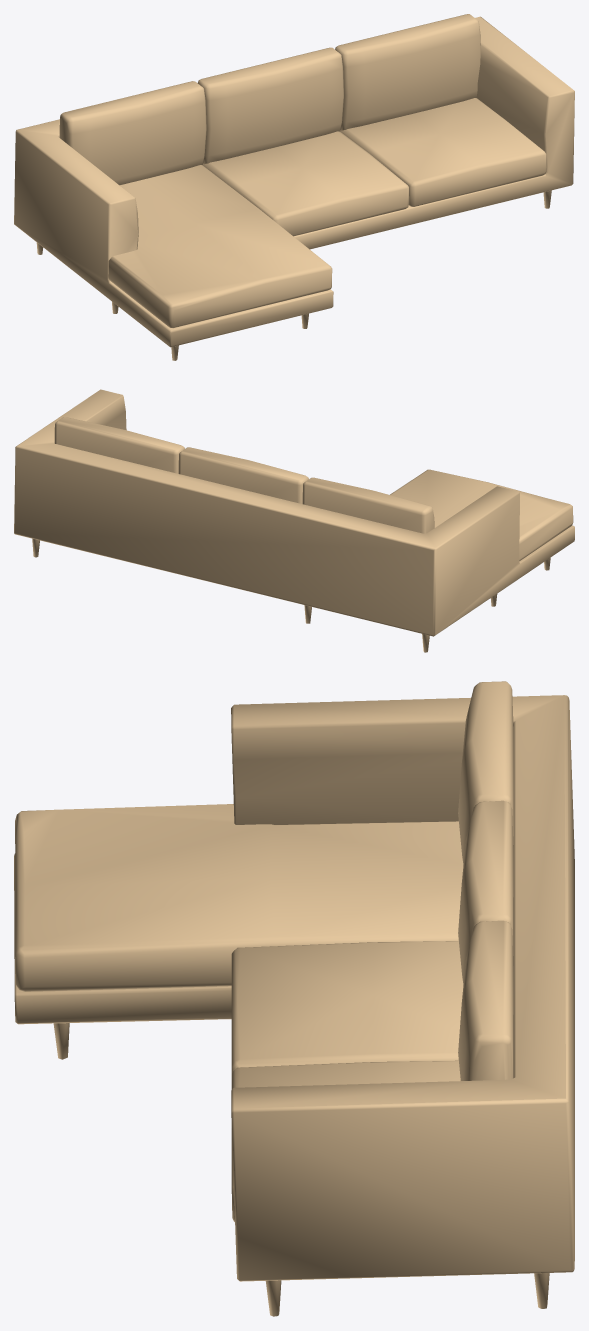
The model's file is sofa_a.glb.
3 renders of one model, top to bottom at view 1: azimuth 30°, elevation 25°; view 2: azimuth 150°, elevation 25°; view 3: azimuth 270°, elevation 25°, orthographic. The views are drawn at different scales.
Parts seen in each view (by area): view 1: sofa_a; view 2: sofa_a; view 3: sofa_a.
Part boxes in pixels (x1,y1,x2,y2): sofa_a: (14,14,574,360); sofa_a: (14,389,574,652); sofa_a: (14,681,574,1316).
Size of the model in its own units: 2.87 by 0.9008 by 1.67.
